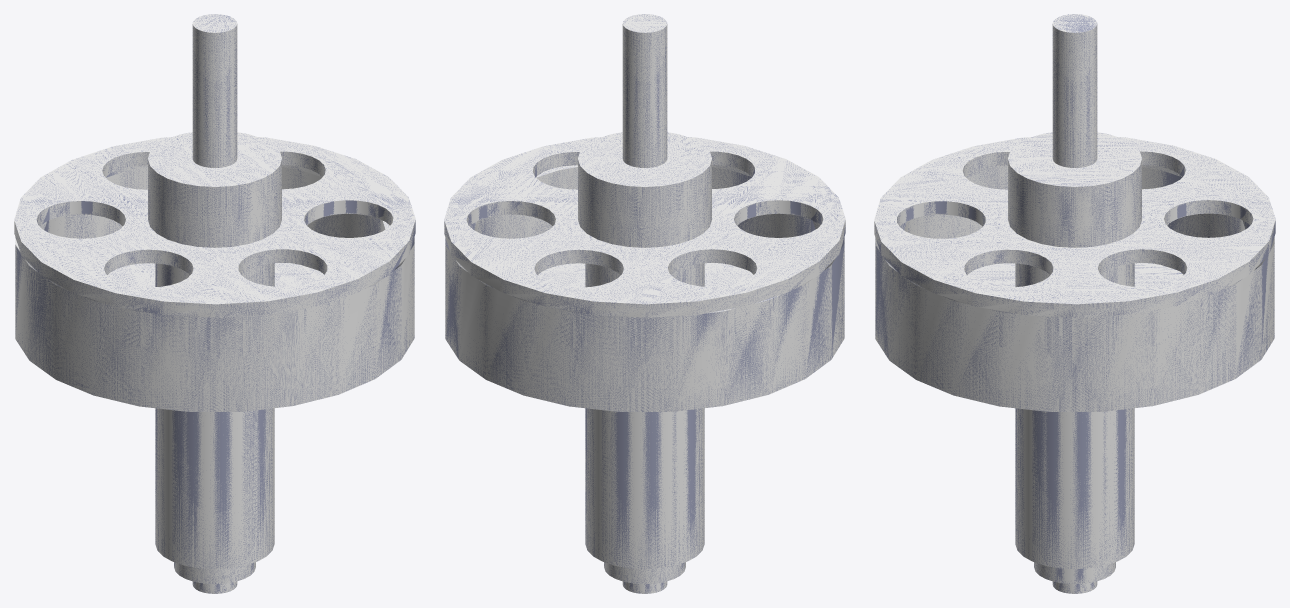
Rendered from hexTronik-24gram-Brushless-Outrunner.fbx.
3 renders of one model, left to right at view 1: azimuth 30°, elevation 25°; view 2: azimuth 150°, elevation 25°; view 3: azimuth 270°, elevation 25°, orthographic.
Visible parts, largest first — view 1: Model; view 2: Model; view 3: Model.
Part boxes in pixels (x1,y1,x2,y2): Model: [14, 14, 415, 593]; Model: [444, 14, 845, 593]; Model: [874, 14, 1275, 593].
Bounding box in the file's own units: 26.92 × 41.5 × 26.92.
